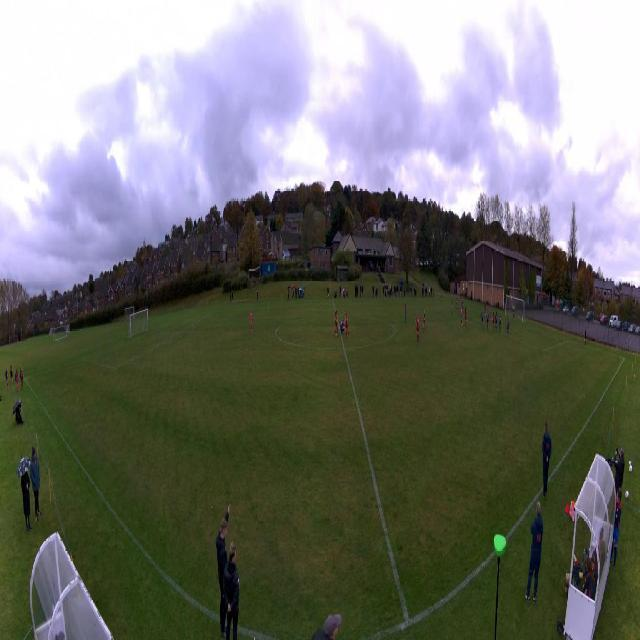ball: (492, 317, 493, 321)
player: (345, 312, 350, 338), (335, 312, 340, 336), (416, 314, 420, 342), (340, 317, 345, 335), (422, 310, 426, 332), (250, 309, 253, 333), (480, 310, 484, 328), (486, 310, 489, 330), (506, 317, 509, 336), (464, 308, 467, 326), (495, 313, 498, 331), (484, 306, 487, 324), (460, 308, 463, 325), (405, 303, 407, 325), (493, 312, 495, 330), (499, 315, 501, 332), (451, 299, 453, 315), (462, 299, 464, 315), (457, 298, 459, 313), (455, 296, 457, 311), (513, 304, 515, 319), (484, 302, 486, 316)
